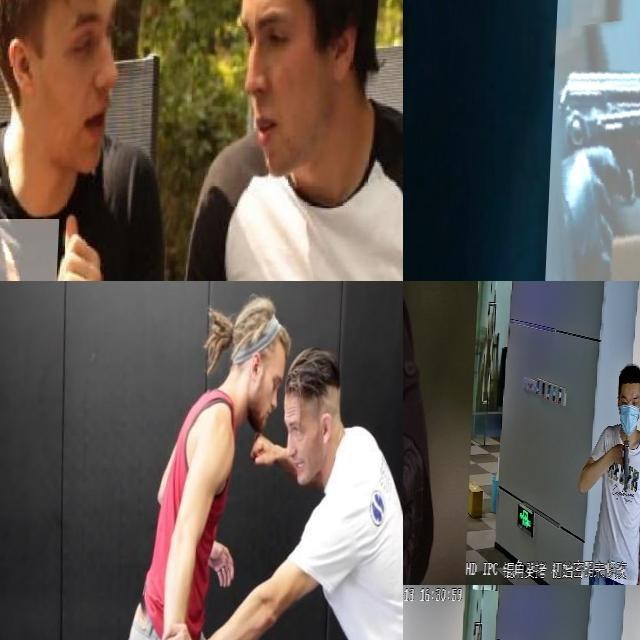-: (0, 218, 62, 281)
gun-knife-thesis - v11 Yolov5 augmented: (545, 0, 640, 281), (403, 351, 484, 547), (620, 433, 634, 494)
